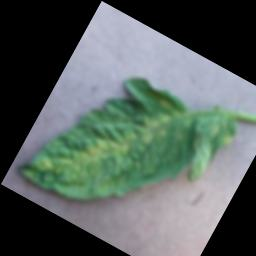Leaf_Mold: (34, 69, 174, 215), (221, 133, 234, 149)
